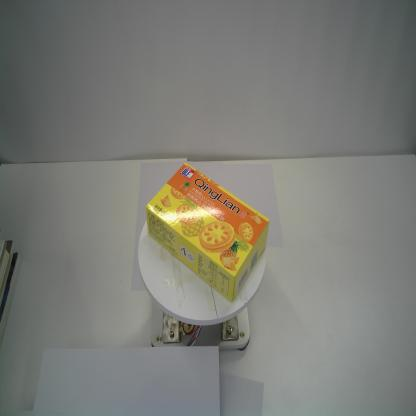Dessert: (146, 161, 270, 303)
